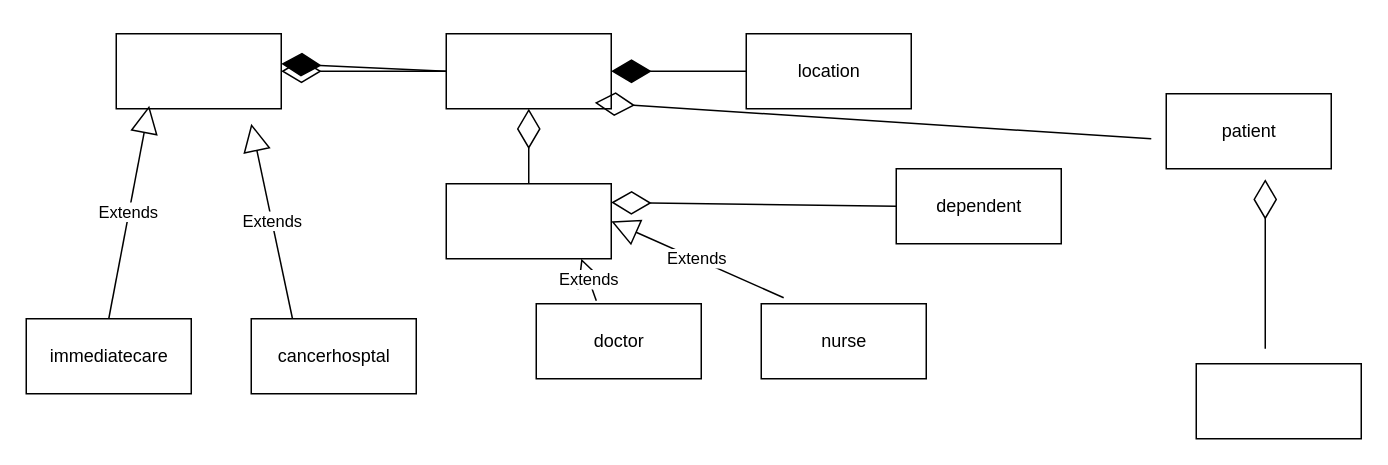
Image size: 1388x465. Some labels were removed from this diagram. Each missing label, with the box of its shape:
divison: (445, 32, 611, 109)
employee: (445, 182, 611, 259)
hospital: (115, 32, 281, 109)
lab report: (1195, 362, 1361, 439)
